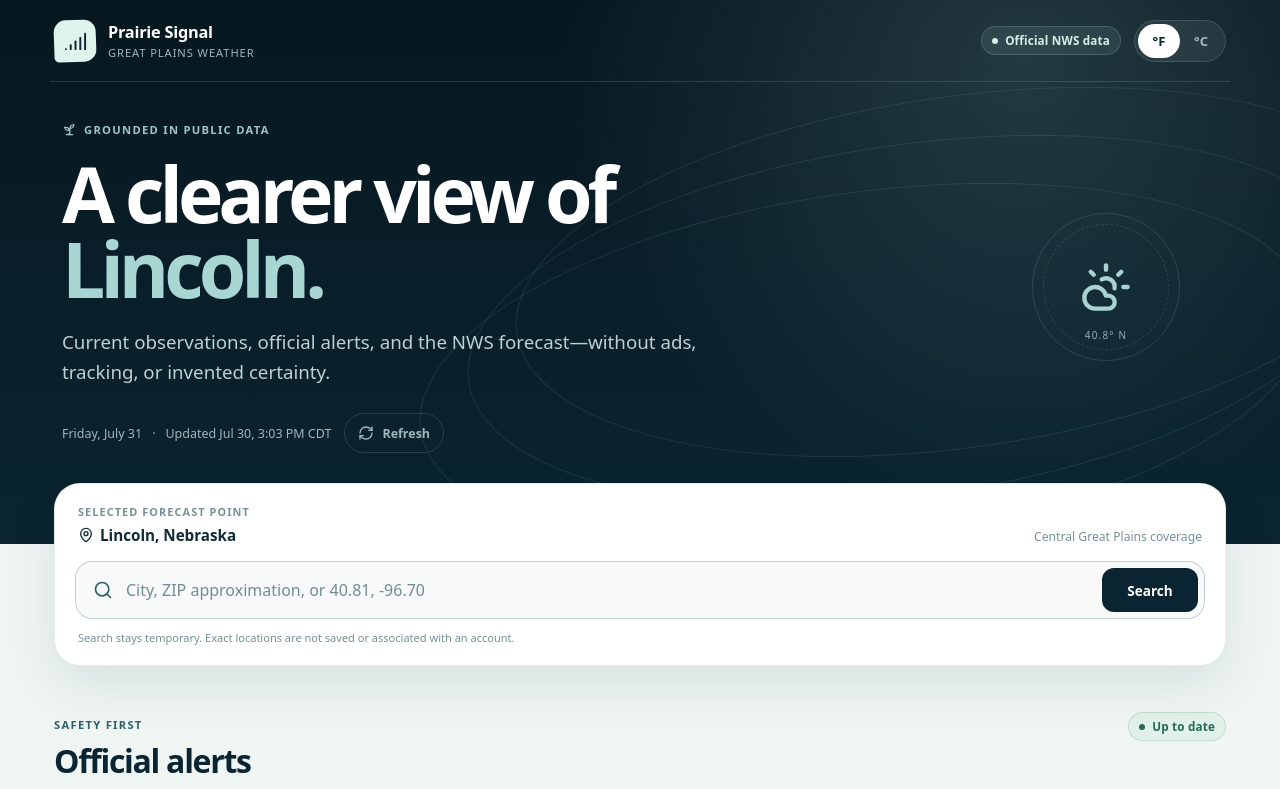
Test: WeatherDashboard › converts visible measurements and persists only the unit preference
Click the button "°C" at (1201, 40), box [1180, 24, 1222, 58]
(page scrolled)
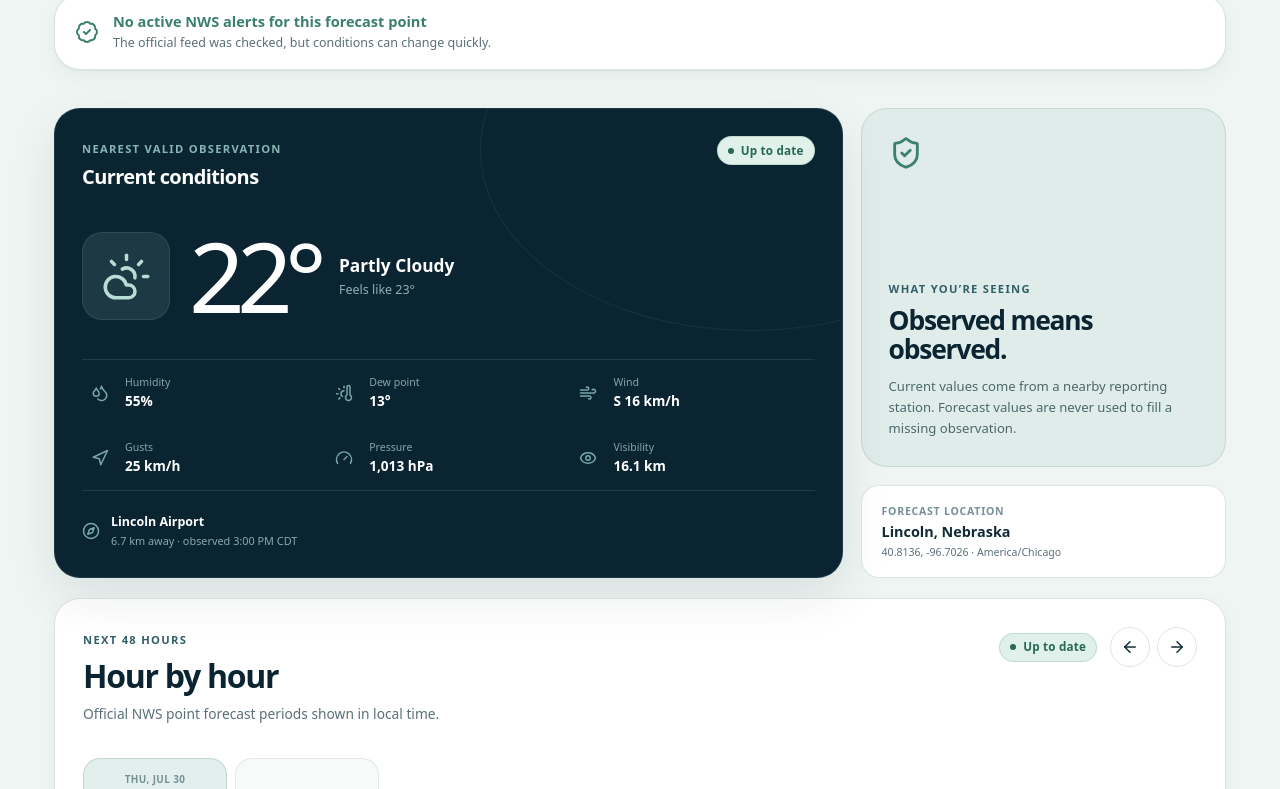
expect the text "22°" is shown: met, box [189, 237, 319, 315]
expect the text "S 16 km/h" is shown: met, box [613, 391, 680, 410]
